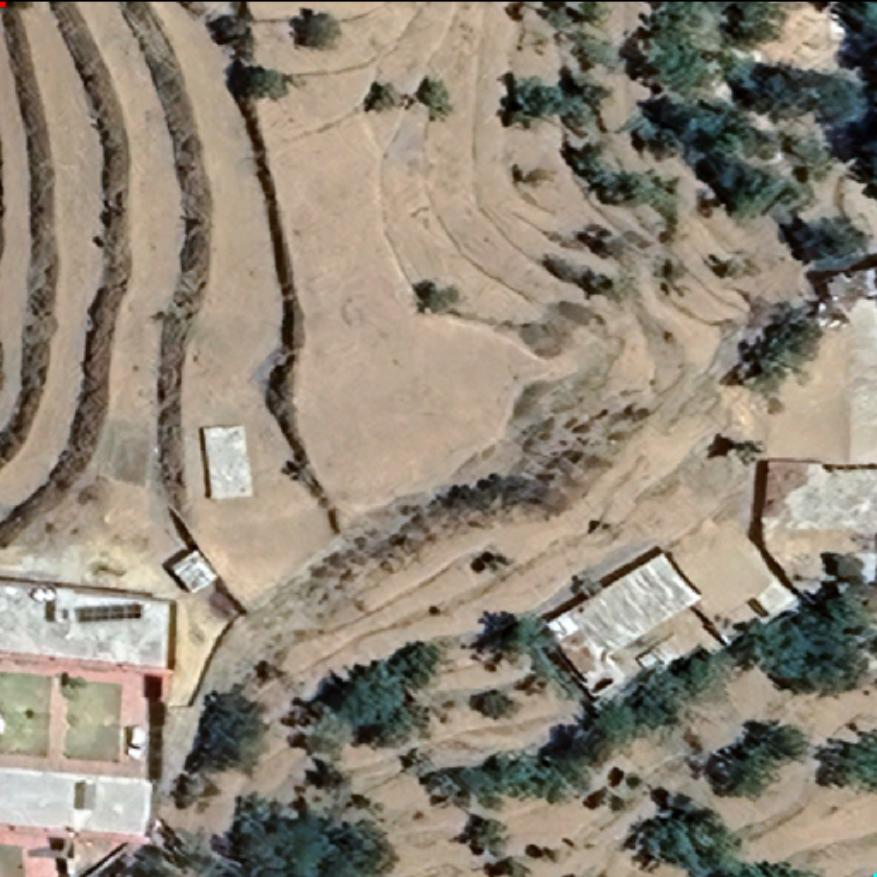Solarpanel: (70, 598, 148, 625)
